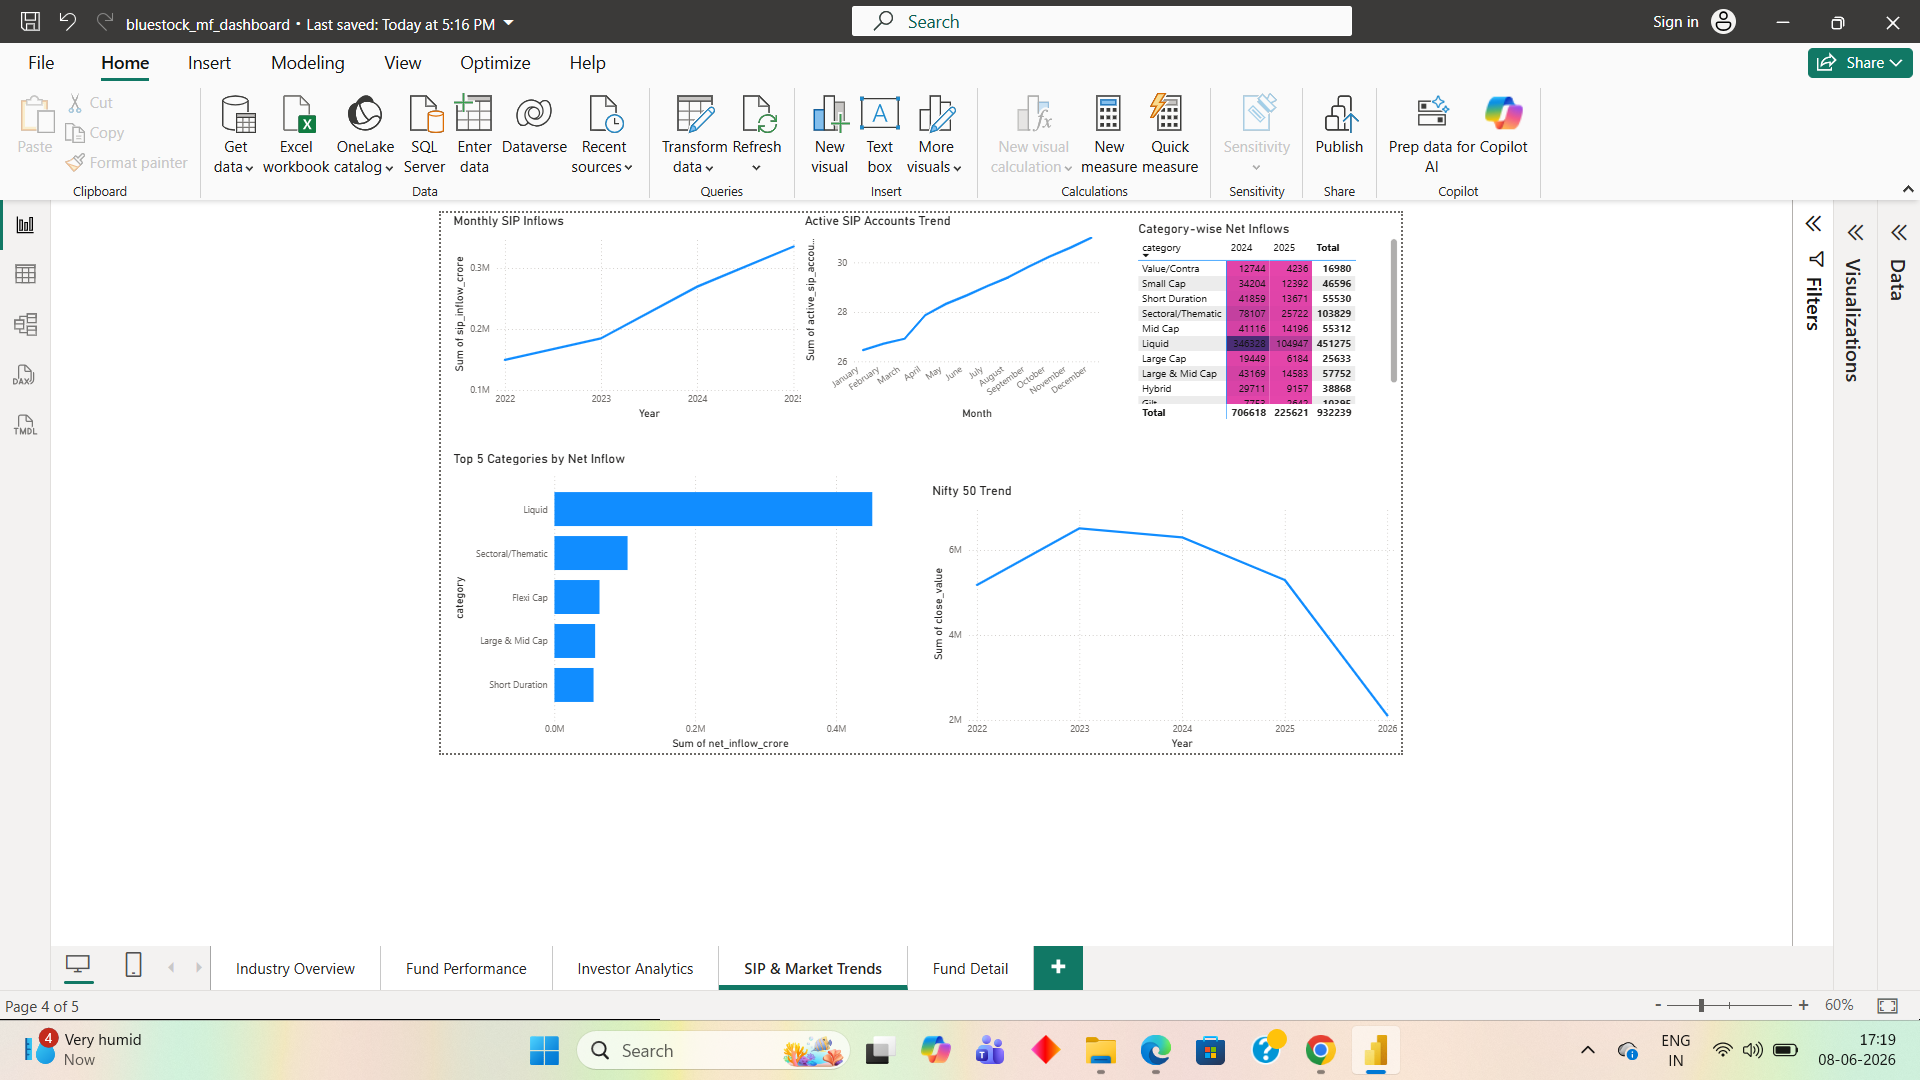

The dashboard page shown, as its layout file describes it:
{"tool":"powerbi","page":{"name":"SIP & Market Trends","canvas":[1280,720],"ordinal":3},"visuals":[{"type":"lineChart","title":"Monthly SIP Inflows","fields":{"Category":["04_monthly_sip_inflows_clean.month.Variation.Date Hierarchy.Year","04_monthly_sip_inflows_clean.month.Variation.Date Hierarchy.Quarter","04_monthly_sip_inflows_clean.month.Variation.Date Hierarchy.Month","04_monthly_sip_inflows_clean.month.Variation.Date Hierarchy.Day"],"Y":["Sum(04_monthly_sip_inflows_clean.sip_inflow_crore)"]},"box":[11.7,0,476.7,280],"z":0},{"type":"lineChart","title":"Active SIP Accounts Trend","fields":{"Category":["04_monthly_sip_inflows_clean.month.Variation.Date Hierarchy.Month"],"Y":["Sum(04_monthly_sip_inflows_clean.active_sip_accounts_crore)"]},"box":[480,0,403.3,280],"z":1000},{"type":"pivotTable","title":"Category-wise Net Inflows","fields":{"Rows":["05_category_inflows_clean.category"],"Columns":["05_category_inflows_clean.month.Variation.Date Hierarchy.Year","05_category_inflows_clean.month.Variation.Date Hierarchy.Quarter","05_category_inflows_clean.month.Variation.Date Hierarchy.Month","05_category_inflows_clean.month.Variation.Date Hierarchy.Day"],"Values":["Sum(05_category_inflows_clean.net_inflow_crore)"]},"box":[925,10,355,270],"z":2000},{"type":"clusteredBarChart","title":"Top 5 Categories by Net Inflow","fields":{"Category":["05_category_inflows_clean.category"],"Y":["Sum(05_category_inflows_clean.net_inflow_crore)"]},"box":[11.7,316.7,628.3,403.3],"z":3000},{"type":"lineChart","title":"Nifty 50 Trend","fields":{"Category":["10_benchmark_indices_clean.date.Variation.Date Hierarchy.Year","10_benchmark_indices_clean.date.Variation.Date Hierarchy.Quarter","10_benchmark_indices_clean.date.Variation.Date Hierarchy.Month","10_benchmark_indices_clean.date.Variation.Date Hierarchy.Day"],"Y":["Sum(10_benchmark_indices_clean.close_value)"]},"box":[650,360,630,360],"z":4000}]}

Visuals, with their boxes on the page's 1280x720 design canvas (x1, y1, x2, y2). These are canvas units, not pixel positions in the 1920x1080 screenshot, which may show the page scaled, cropped or inside an application window:
"Monthly SIP Inflows" lineChart: (left=12, top=0, right=488, bottom=280)
"Active SIP Accounts Trend" lineChart: (left=480, top=0, right=883, bottom=280)
"Category-wise Net Inflows" pivotTable: (left=925, top=10, right=1280, bottom=280)
"Top 5 Categories by Net Inflow" clusteredBarChart: (left=12, top=317, right=640, bottom=720)
"Nifty 50 Trend" lineChart: (left=650, top=360, right=1280, bottom=720)
